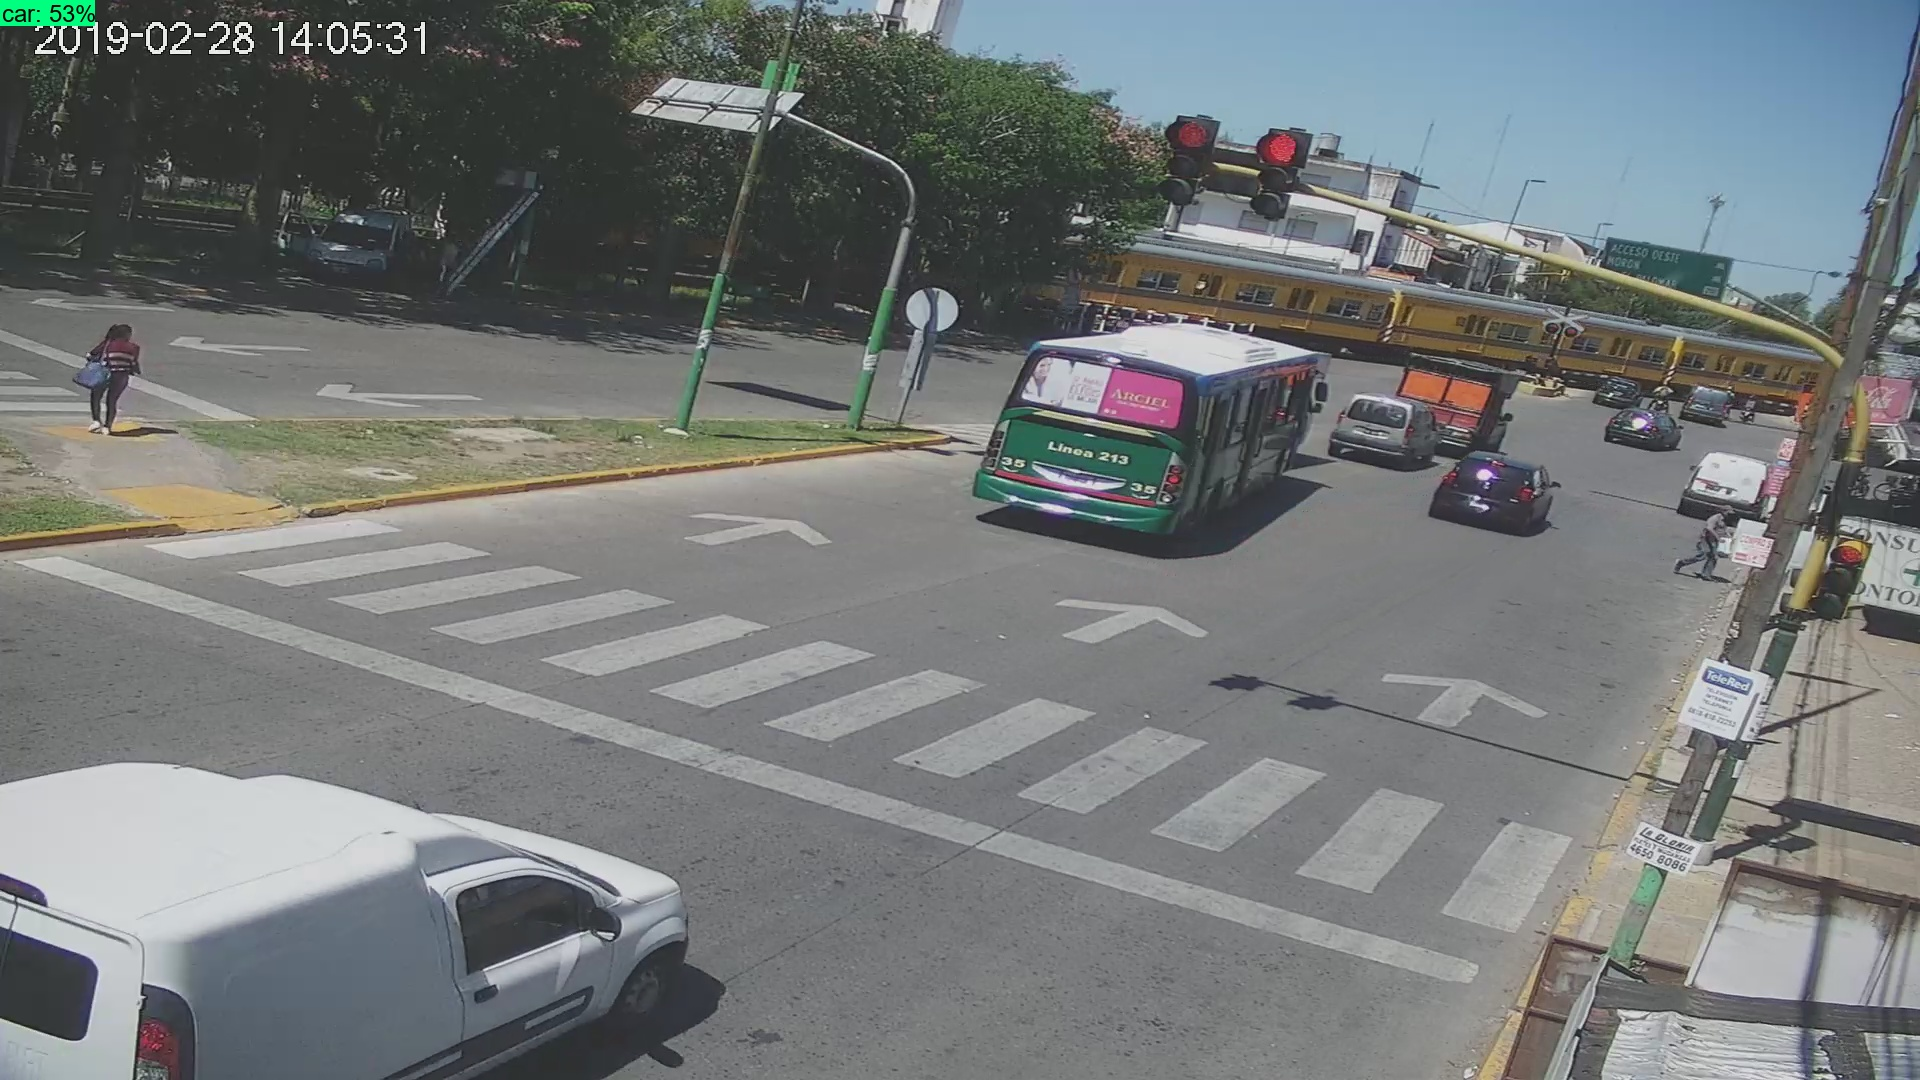bus: (972, 310, 1327, 543)
car: (1, 709, 699, 1080), (1425, 436, 1569, 549), (1325, 386, 1437, 480), (1671, 436, 1784, 529)
